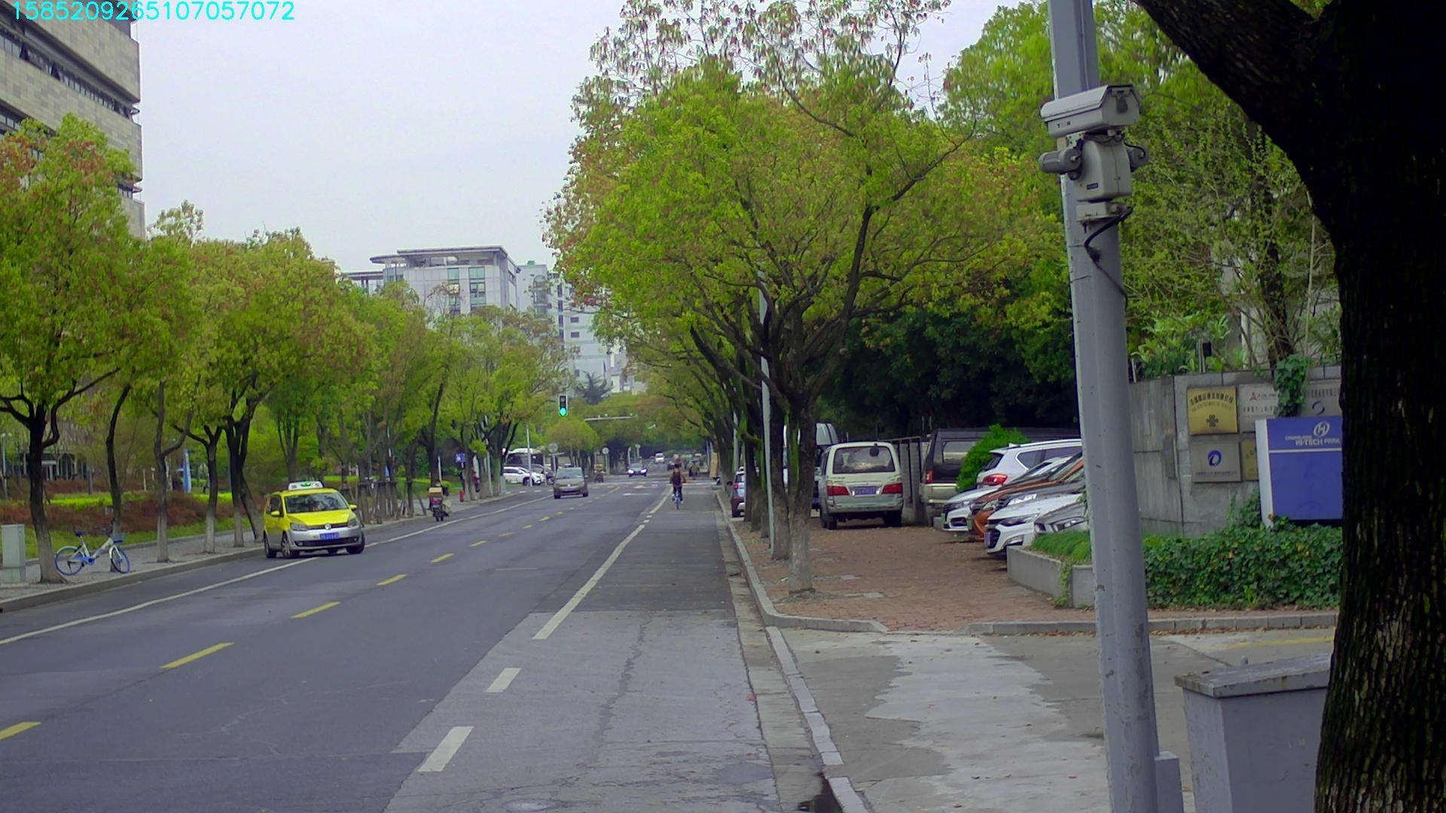green: (558, 394, 566, 416)
